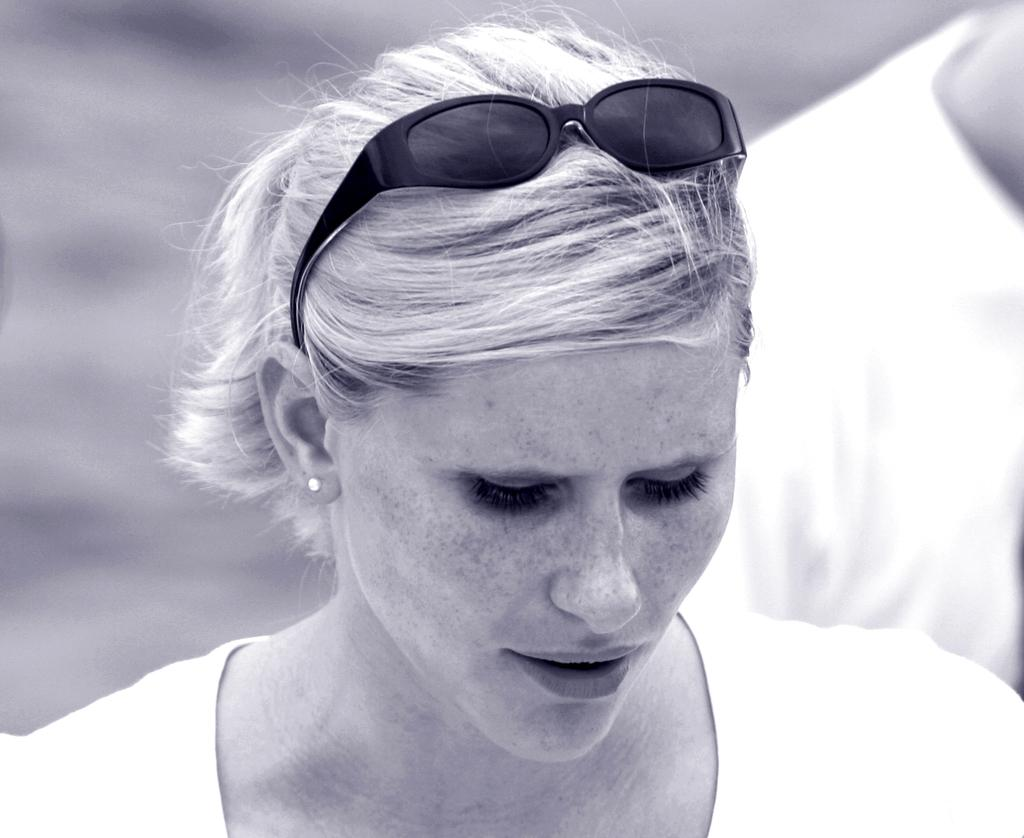Sem Máscara: (340, 338, 733, 762)
